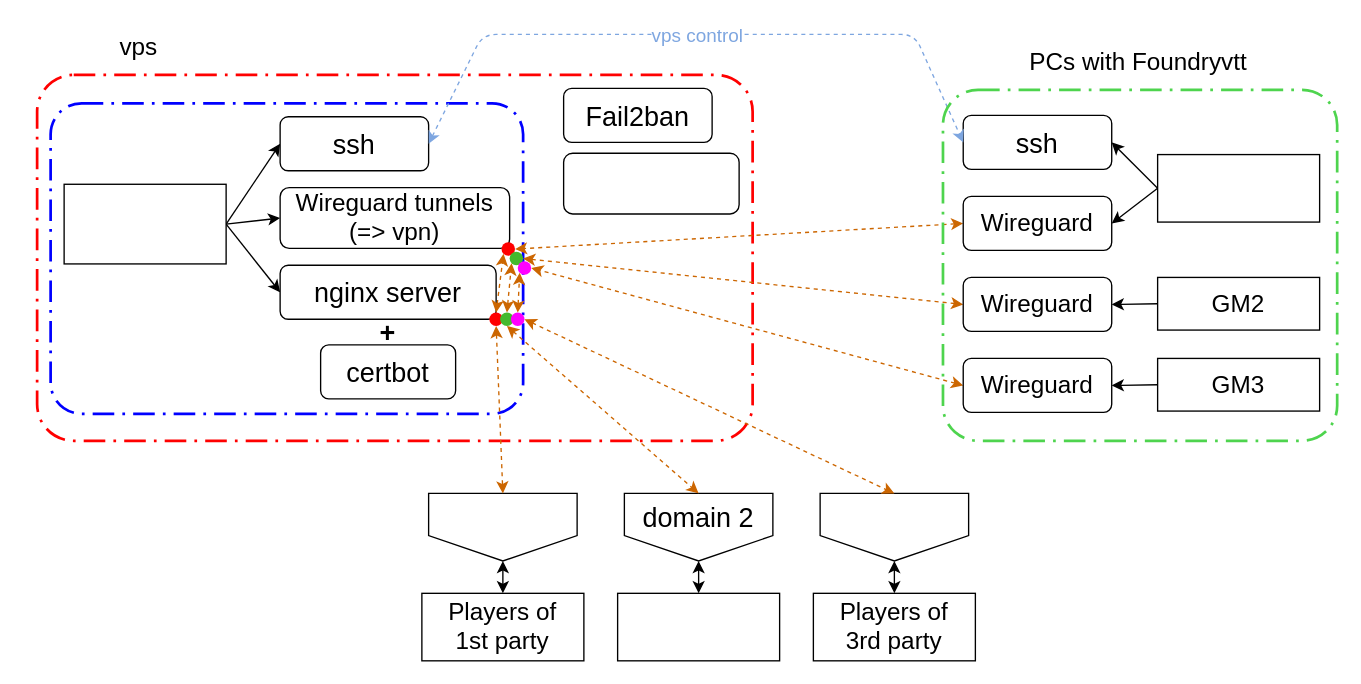
Some shapes in this 1361 by 684 pixel diagram are drawn without their labels. Each missing label, with the centre of its shape:
domain 1: the point at 502,526
domain 3: the point at 894,526
Firewall ufw: the point at 650,183
Owner / GM1: the point at 1238,187
Players of 2nd party: the point at 698,626
Server with debian 10: the point at 144,223
